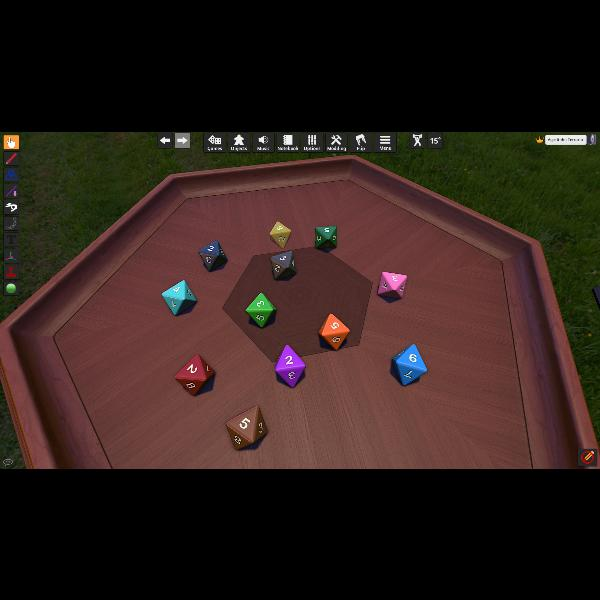d8: (226, 406, 266, 450), (176, 354, 215, 396), (162, 278, 198, 316), (392, 343, 424, 385), (274, 344, 306, 386), (320, 312, 350, 350), (246, 292, 276, 328), (199, 240, 227, 272), (270, 250, 296, 280), (378, 271, 404, 299), (270, 220, 292, 248), (314, 226, 335, 248)
